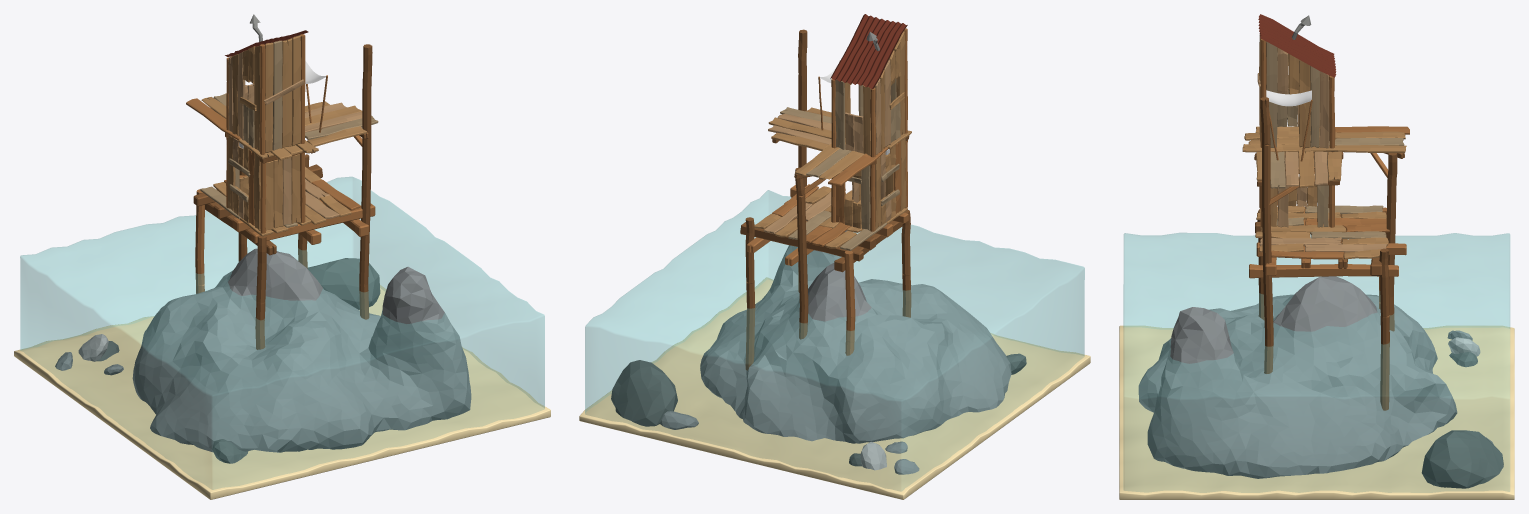
File: sea_shack.glb
The picture shows the model from 3 angles, left to right: view 1: azimuth 30°, elevation 25°; view 2: azimuth 150°, elevation 25°; view 3: azimuth 270°, elevation 25°; orthographic projection. The views are drawn at different scales.
Parts seen in each view (by area): view 1: sea, Icosphere, send, Cylinder.007, Icosphere.001, Cylinder.008, Cube.077, Cube.078, Cube.076, Cylinder.003, Cube.079, Cube.016 (+9 smaller); view 2: sea, Icosphere, send, Icosphere.001, roof, Cylinder.006, Cylinder.001, Cylinder.007, Cylinder.009, Cylinder.008, Cube.017, Cube.098 (+3 smaller); view 3: sea, Icosphere, send, Icosphere.001, Cylinder.007, roof, Cylinder.001, Cube.020, Cylinder.006, Cube.028, Cube.093, Cube.092 (+22 smaller).
Part boxes in pixels (x1,y1,x2,y2): sea: [20, 177, 544, 489]; Icosphere: [132, 248, 471, 452]; send: [14, 285, 550, 499]; Cylinder.007: [359, 44, 372, 319]; Icosphere.001: [307, 258, 380, 309]; Cylinder.008: [255, 235, 266, 349]; Cube.077: [282, 38, 292, 148]; Cube.078: [272, 40, 282, 150]; Cube.076: [291, 35, 301, 146]; Cylinder.003: [300, 34, 305, 222]; Cube.079: [265, 42, 273, 152]; Cube.016: [251, 203, 375, 243]; sea: [585, 190, 1084, 491]; Icosphere: [700, 230, 1011, 443]; send: [579, 277, 1090, 499]; Icosphere.001: [611, 360, 677, 426]; roof: [830, 14, 907, 89]; Cylinder.006: [795, 167, 808, 339]; Cylinder.001: [745, 217, 755, 370]; Cylinder.007: [798, 29, 807, 292]; Cylinder.009: [844, 250, 855, 355]; Cylinder.008: [901, 210, 911, 317]; Cube.017: [740, 222, 863, 261]; Cube.098: [835, 79, 844, 149]; sea: [1123, 233, 1509, 492]; Icosphere: [1138, 276, 1457, 478]; send: [1119, 325, 1514, 499]; Icosphere.001: [1421, 430, 1503, 488]; Cylinder.007: [1260, 97, 1273, 373]; roof: [1258, 14, 1336, 77]; Cylinder.001: [1379, 248, 1389, 410]; Cube.020: [1249, 264, 1398, 278]; Cylinder.006: [1386, 153, 1397, 331]; Cube.028: [1266, 41, 1277, 147]; Cube.093: [1298, 60, 1310, 147]; Cube.092: [1310, 66, 1319, 147].
Bounding box in the file's own units: 15.83 × 17.77 × 15.83.
